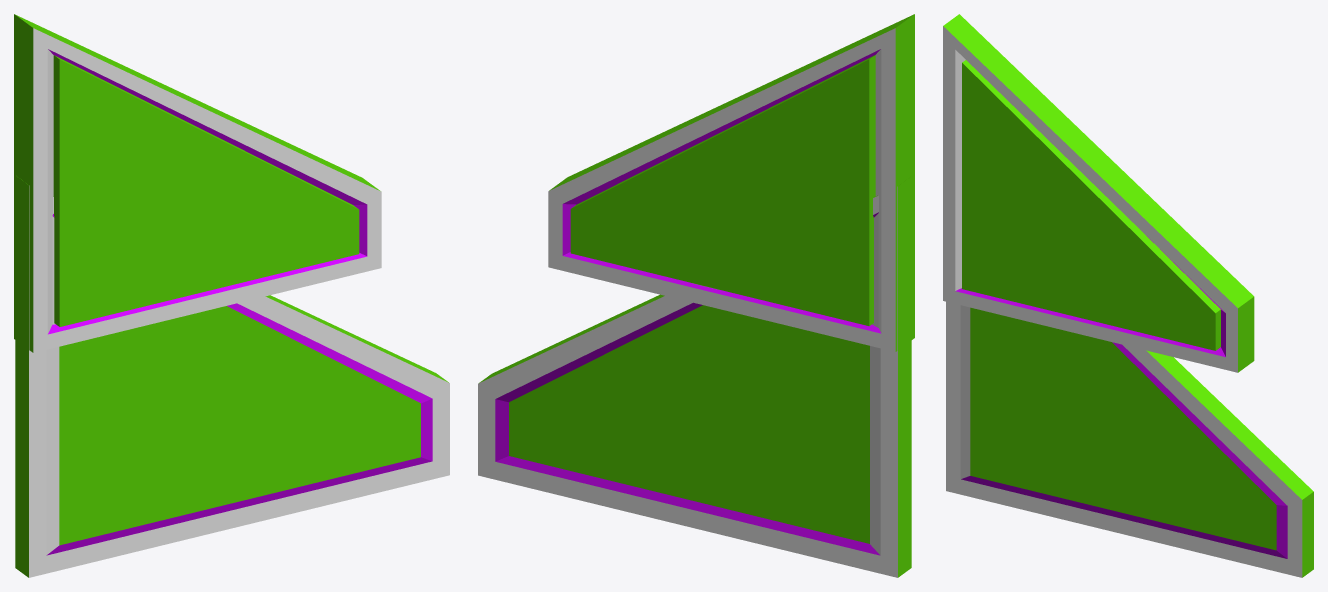
File: üstk_lv8.fbx
3 views of the same model, side by side, from view 1: azimuth 30°, elevation 25°; view 2: azimuth 150°, elevation 25°; view 3: azimuth 330°, elevation 25° (orthographic). The views are drawn at different scales.
Parts seen in each view (by area): view 1: üstk_lv8; view 2: üstk_lv8; view 3: üstk_lv8.
Boxes of the visible parts, x1,y1,x2,y2 form: üstk_lv8: (14,14,449,577); üstk_lv8: (478,14,914,577); üstk_lv8: (943,14,1313,577).
Bounding box in the file's own units: 82.82 × 104 × 7.93.
